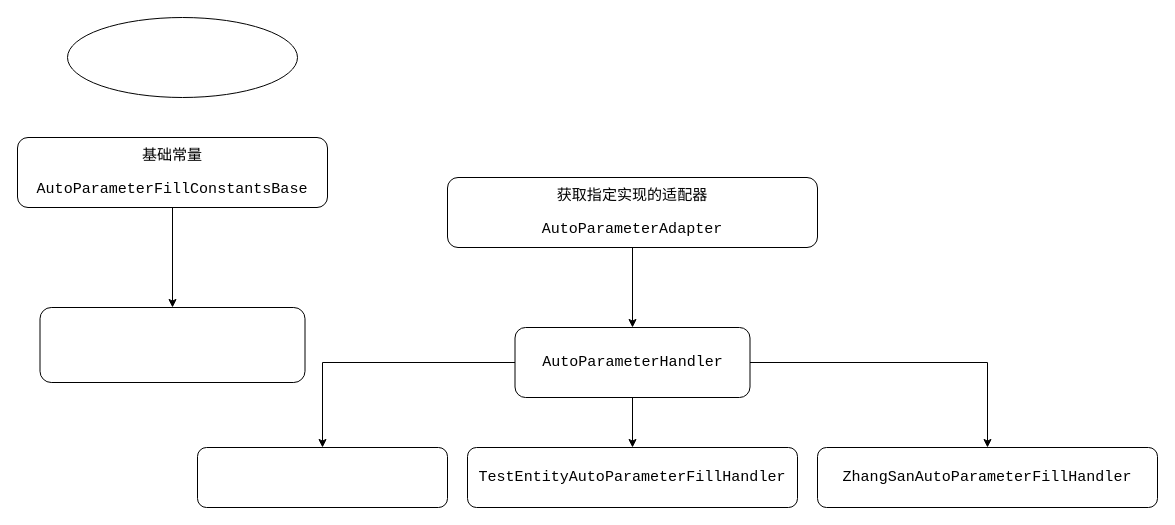
Some shapes in this 1175 by 525 pixel diagram are drawn without their labels. The centre of each missing label's shape, as x and y in pixels:
"AutoParameterFillConstants" belongs at point (172, 344).
"IdAutoParameterFillHandler" belongs at point (322, 477).
"方法注解 @AutoParameterFill" belongs at point (182, 57).
